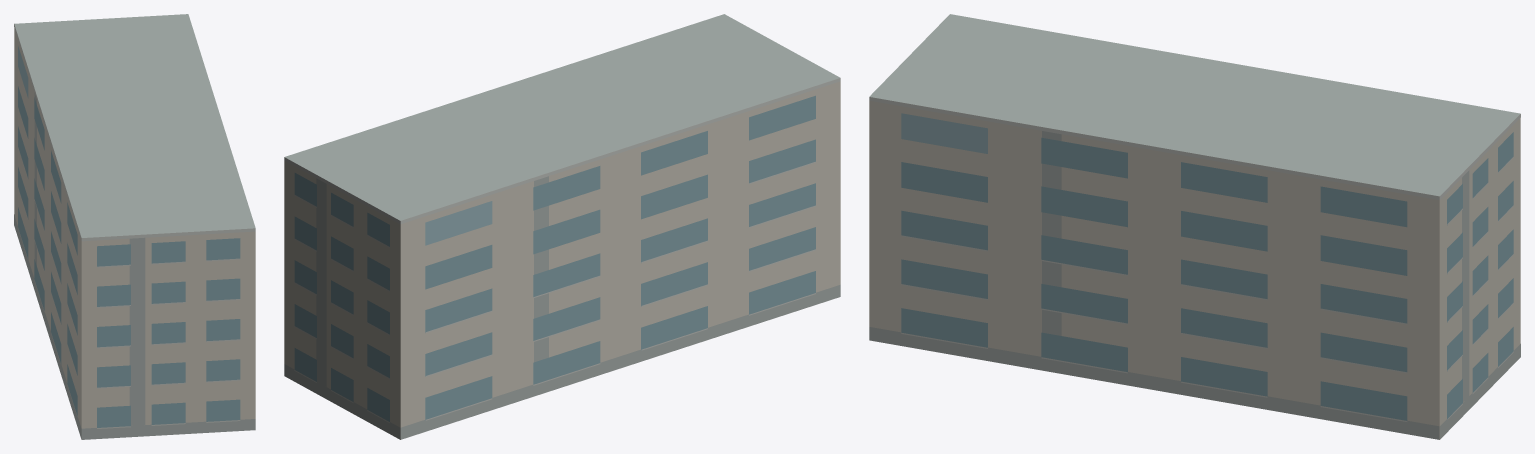
File: residential-514058e9-7153-4986-80b6-6bfac576fb88.glb
3 renders of one model, left to right at view 1: azimuth 30°, elevation 25°; view 2: azimuth 150°, elevation 25°; view 3: azimuth 270°, elevation 25°, orthographic. The views are drawn at different scales.
Parts seen in each view (by area): view 1: residential-514058e9-7153-4986-80b6-6bfac576fb88.tmp; view 2: residential-514058e9-7153-4986-80b6-6bfac576fb88.tmp; view 3: residential-514058e9-7153-4986-80b6-6bfac576fb88.tmp.
Boxes of the visible parts, left/top/right/bottom form: residential-514058e9-7153-4986-80b6-6bfac576fb88.tmp: left=14, top=14, right=255, bottom=439; residential-514058e9-7153-4986-80b6-6bfac576fb88.tmp: left=284, top=14, right=840, bottom=439; residential-514058e9-7153-4986-80b6-6bfac576fb88.tmp: left=869, top=14, right=1520, bottom=439.
Bounding box in the file's own units: 24.5 × 15.25 × 36.99.
